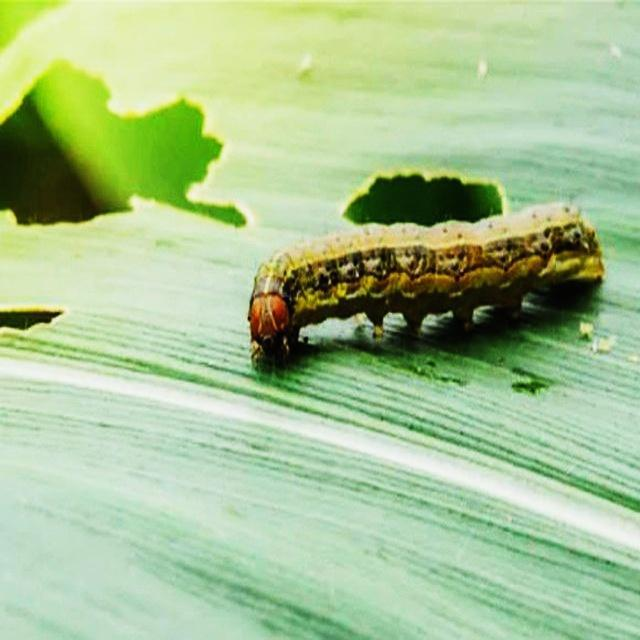Plaga: (245, 198, 608, 365)
